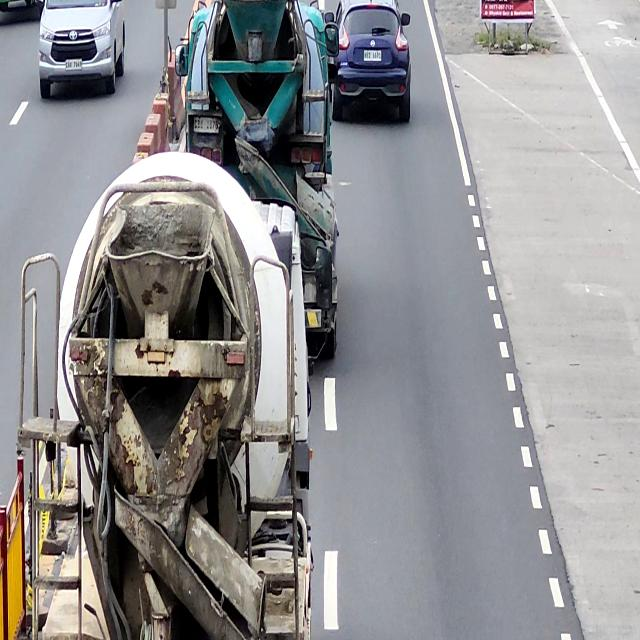Car: (328, 0, 412, 125)
License-Plate: (192, 114, 221, 134), (363, 50, 383, 64)
Truck: (22, 154, 311, 640), (176, 0, 337, 365)
